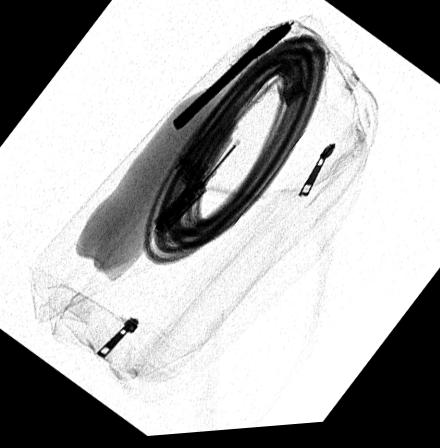Gun: (172, 26, 294, 135)
